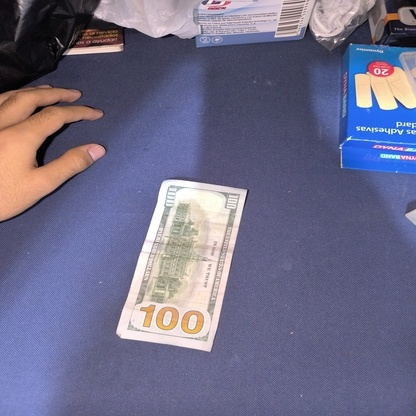one_hundred-back: (113, 176, 248, 355)
